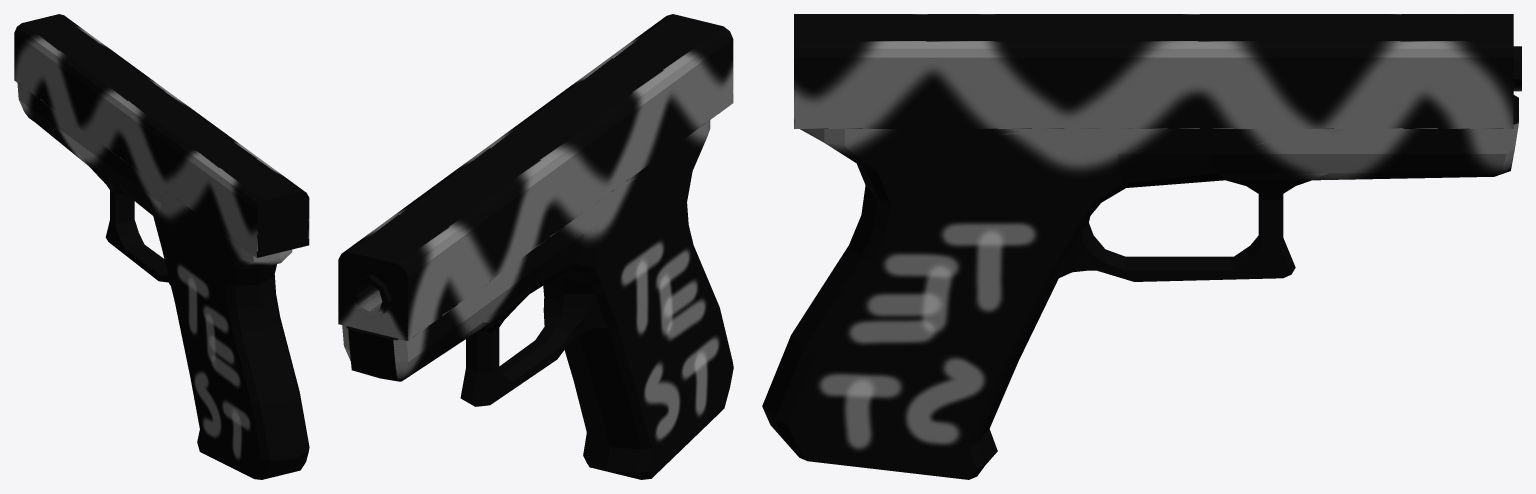
File: test_gun2.glb
3 views of the same model, side by side, from view 1: azimuth 30°, elevation 25°; view 2: azimuth 150°, elevation 25°; view 3: azimuth 270°, elevation 25° (orthographic). The views are drawn at different scales.
Visible parts, largest first — view 1: grip, slide; view 2: grip, slide; view 3: grip, slide.
Boxes of the visible parts, box(x1,y1,x2,y2) form: grip: box(17, 83, 309, 479); slide: box(14, 14, 309, 257); grip: box(342, 120, 733, 479); slide: box(338, 14, 733, 340); grip: box(762, 95, 1518, 479); slide: box(794, 14, 1521, 128).
Size of the model in its own units: 0.0216 by 0.116 by 0.1837.
Materials: 2 (2 with a texture image).
